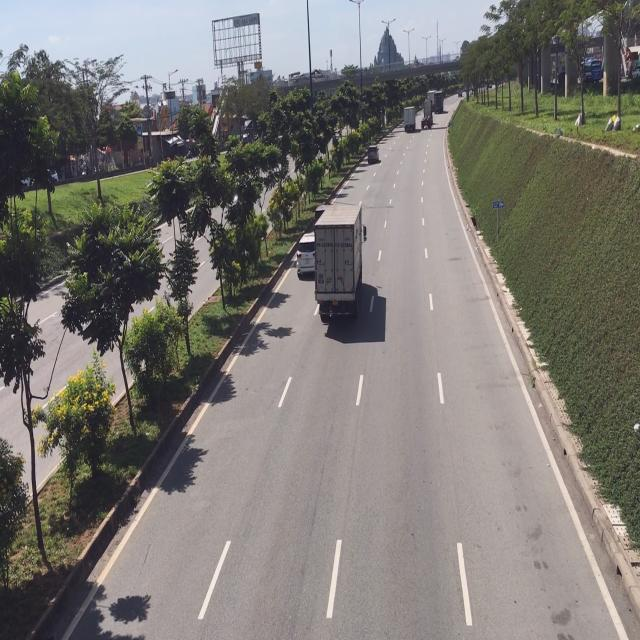car: (295, 229, 314, 278), (366, 143, 379, 167)
truck: (312, 200, 365, 328), (405, 107, 416, 134)
